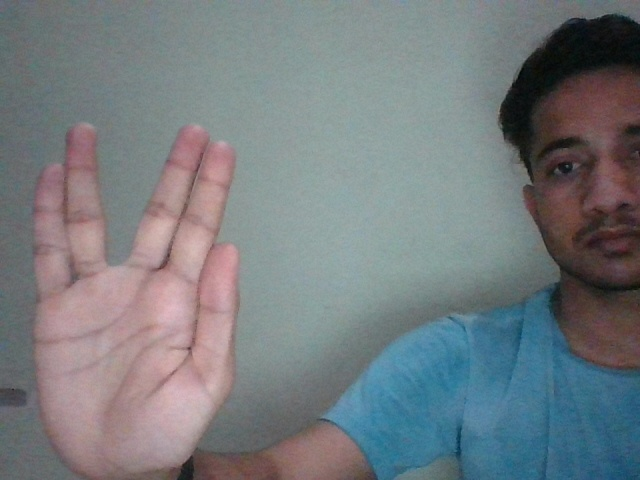livelong: (29, 121, 241, 475)
